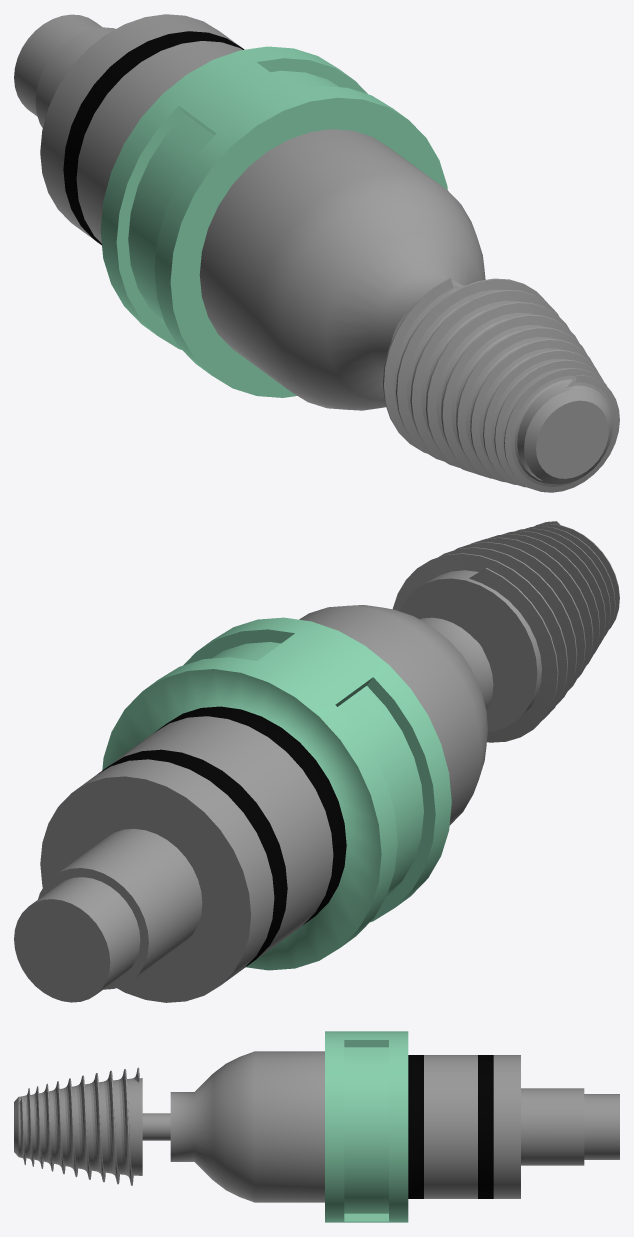
The model's file is ToolDrill4.fbx.
3 views of the same model, one above another, from view 1: azimuth 30°, elevation 25°; view 2: azimuth 150°, elevation 25°; view 3: azimuth 270°, elevation 25° (orthographic). The views are drawn at different scales.
Parts seen in each view (by area): view 1: ToolDrill4; view 2: ToolDrill4; view 3: ToolDrill4.
Boxes of the visible parts, x1,y1,x2,y2 form: ToolDrill4: (14, 14, 619, 492); ToolDrill4: (14, 521, 619, 1002); ToolDrill4: (14, 1031, 619, 1222).
Size of the model in its own units: 1.24 by 1.24 by 3.93.
